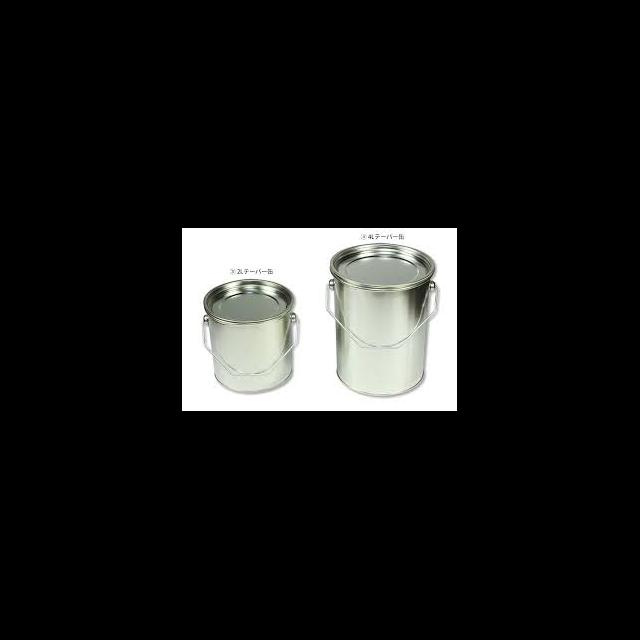metal: (326, 242, 438, 396), (200, 278, 300, 394)
